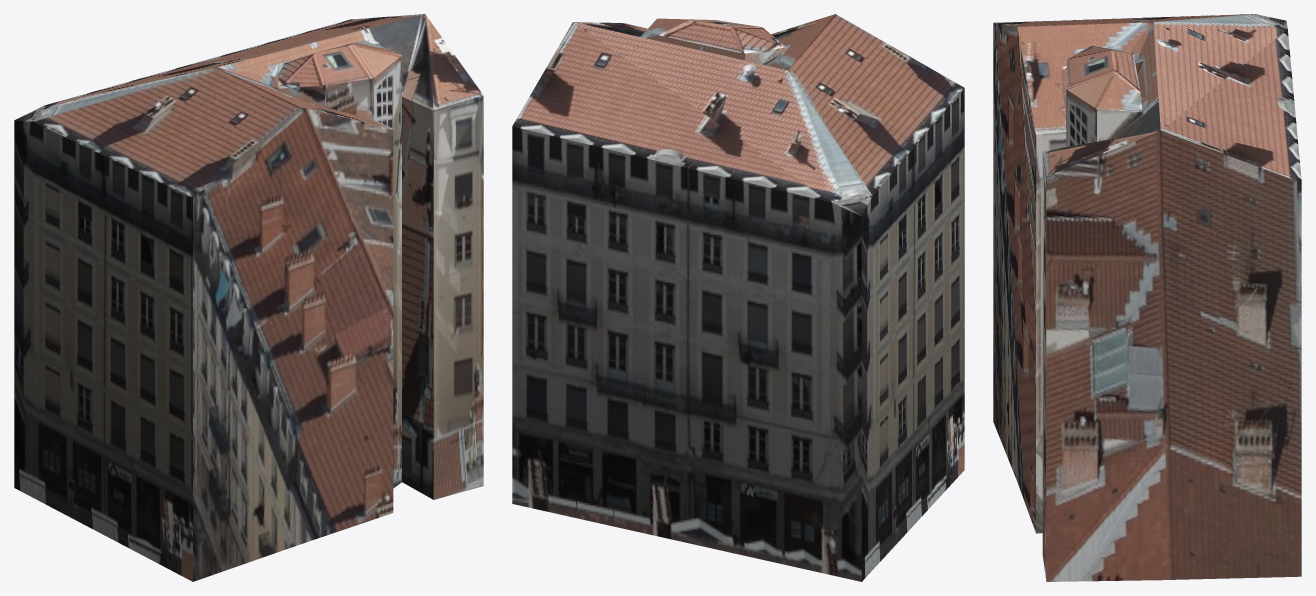
3 views of the same model, side by side, from view 1: azimuth 30°, elevation 25°; view 2: azimuth 150°, elevation 25°; view 3: azimuth 270°, elevation 25° (orthographic). The views are drawn at different scales.
Parts seen in each view (by area): view 1: Z_UP; view 2: Z_UP; view 3: Z_UP.
Part boxes in pixels (box(x1,y1,x2,y2)): Z_UP: box(14, 14, 483, 581); Z_UP: box(512, 14, 964, 581); Z_UP: box(993, 14, 1301, 581).
Bounding box in the file's own units: 22.26 × 26.65 × 16.17.
Materials: 2 (1 with a texture image).
